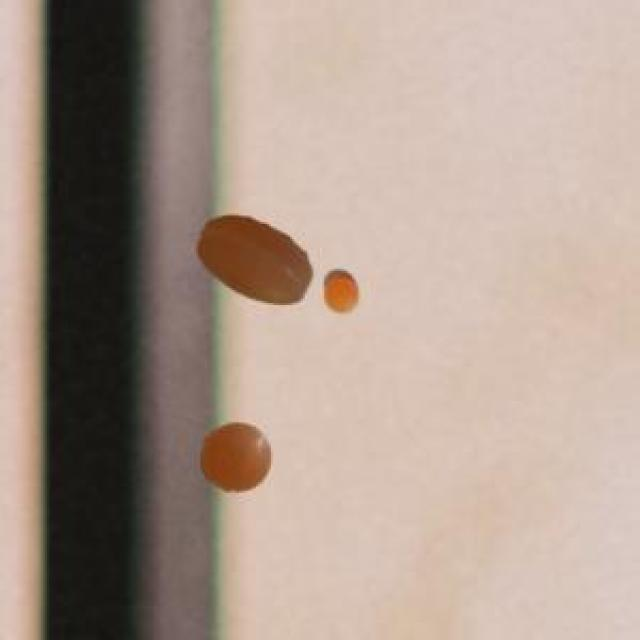Bactidol: (177, 207, 315, 319), (190, 411, 278, 506), (322, 255, 368, 335)
